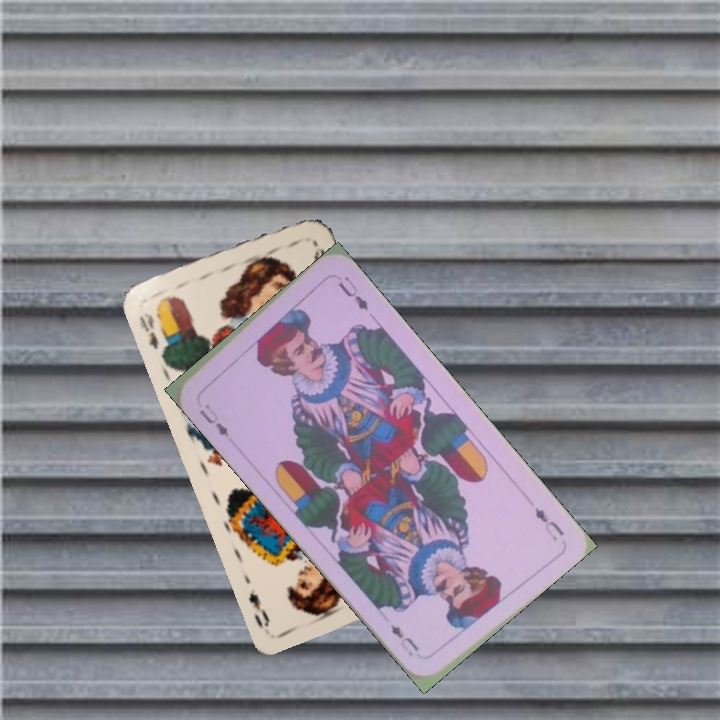EO: (135, 309, 161, 352)
EU: (530, 503, 567, 544), (195, 400, 232, 439)
